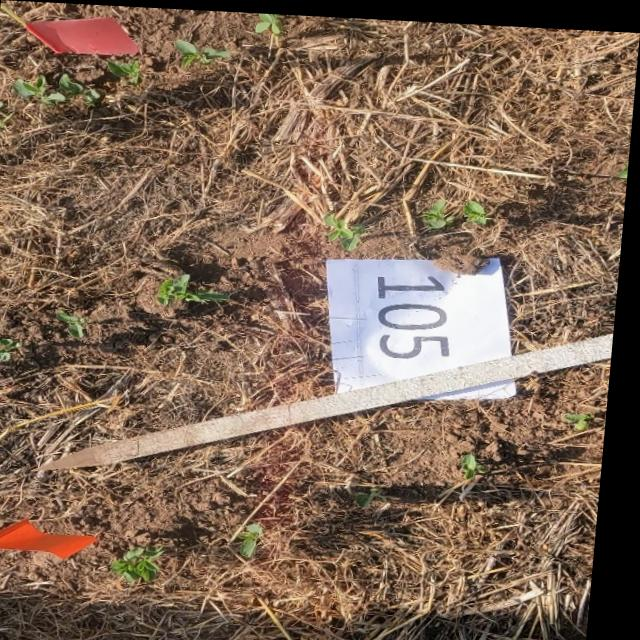soy_plant: (15, 73, 101, 105), (162, 272, 234, 303), (120, 545, 173, 580), (328, 210, 369, 246), (175, 38, 229, 64), (425, 194, 457, 224), (247, 521, 272, 555), (108, 60, 141, 83), (61, 311, 90, 337), (362, 483, 394, 504), (468, 448, 494, 473), (0, 338, 27, 360), (466, 195, 489, 220), (571, 406, 599, 425), (254, 11, 278, 31), (0, 101, 11, 130)
